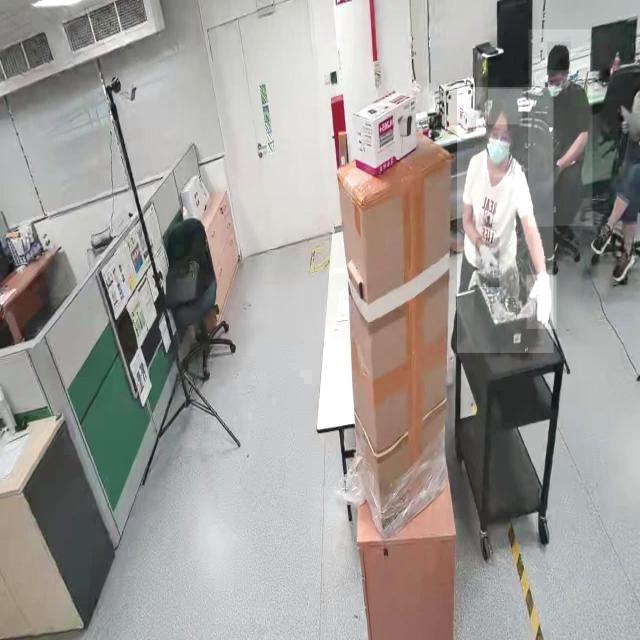face_mask: (483, 131, 513, 177)
hand_glove: (526, 274, 556, 330), (475, 237, 499, 288)
head_nohelmet: (488, 89, 522, 125), (547, 42, 571, 71)
person: (456, 87, 554, 354), (528, 29, 592, 227)
shoes: (608, 247, 636, 286), (589, 218, 615, 255)
